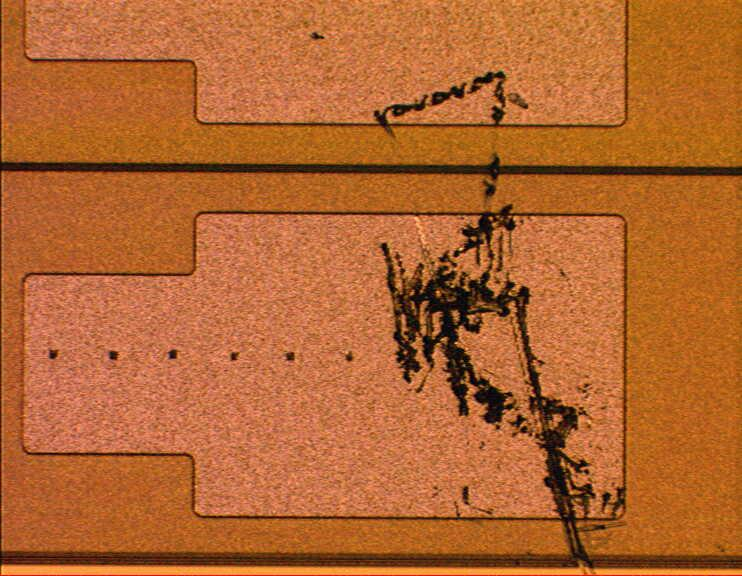SCRATCH: (366, 66, 636, 576)
